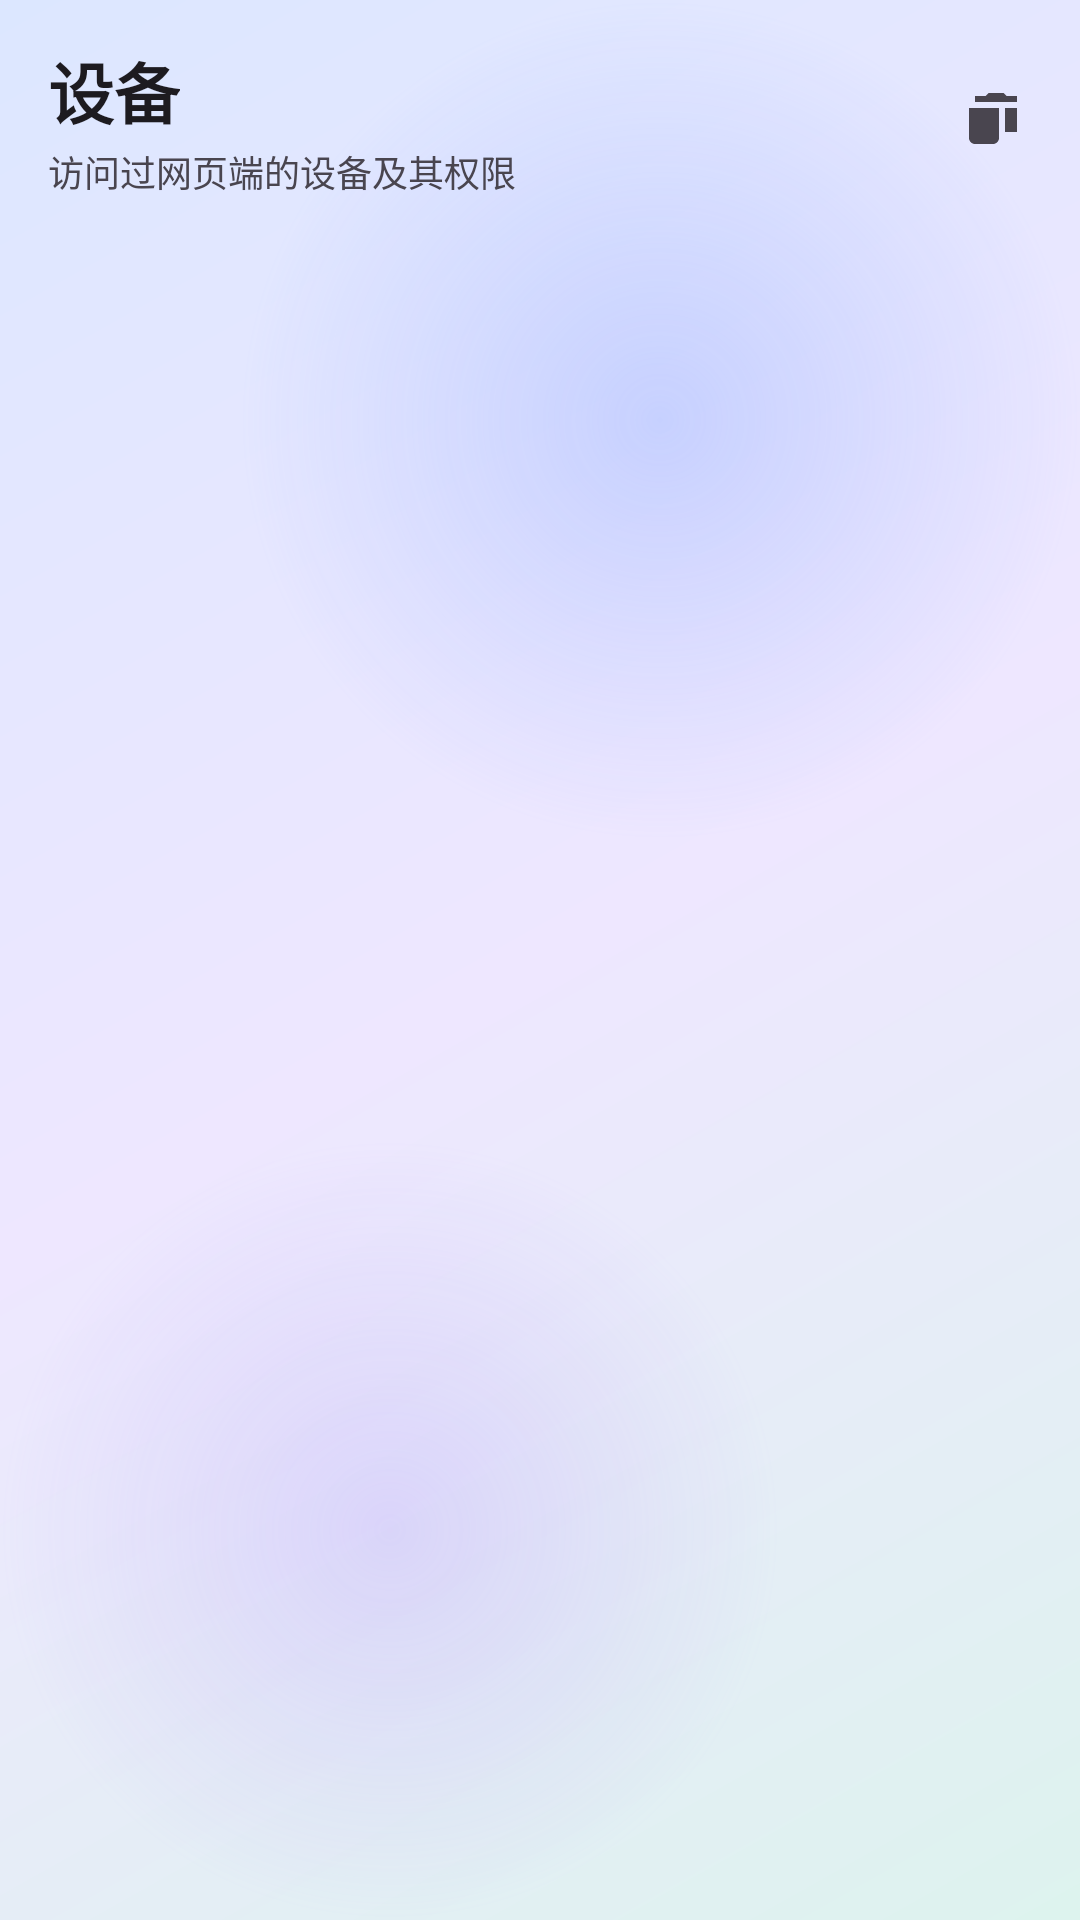

Locate icon controls on the screen. Image size 1080 × 1920, boxes as {"x1": x1, "y1": y1, "x2": x2, "y2": y2}.
清空访问记录: {"x1": 969, "y1": 93, "x2": 1017, "y2": 144}
